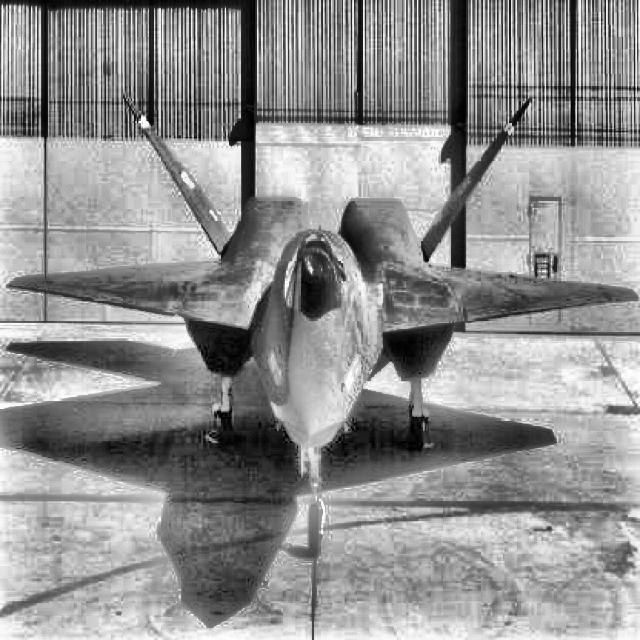YF23: (6, 90, 639, 558)
